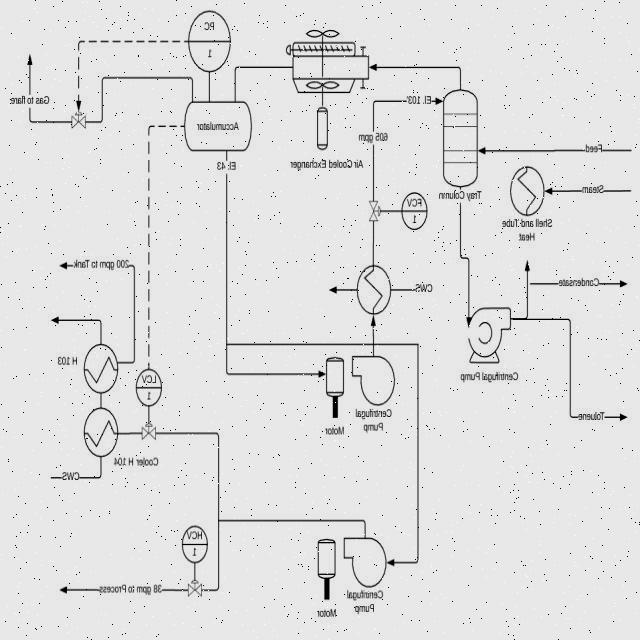Centrifugal Pump: (456, 300, 516, 368), (350, 345, 404, 407), (337, 531, 398, 585)
Motor: (313, 351, 348, 427), (306, 532, 338, 604)
Pneumatic-Diaphragm Gate Valve: (362, 181, 386, 229), (138, 413, 164, 450), (186, 574, 208, 600), (72, 110, 88, 132)
